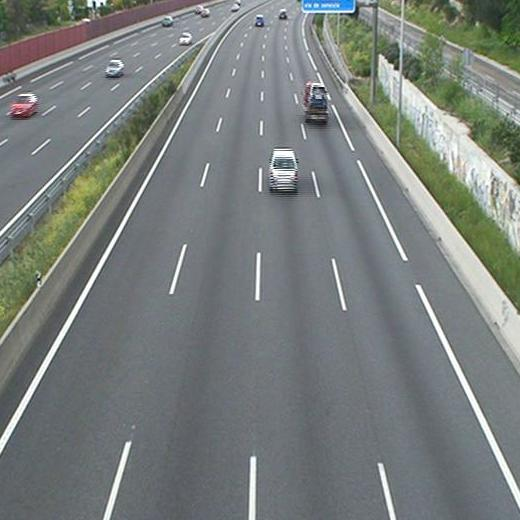car: (267, 148, 298, 195), (309, 83, 328, 109), (255, 14, 265, 28)
